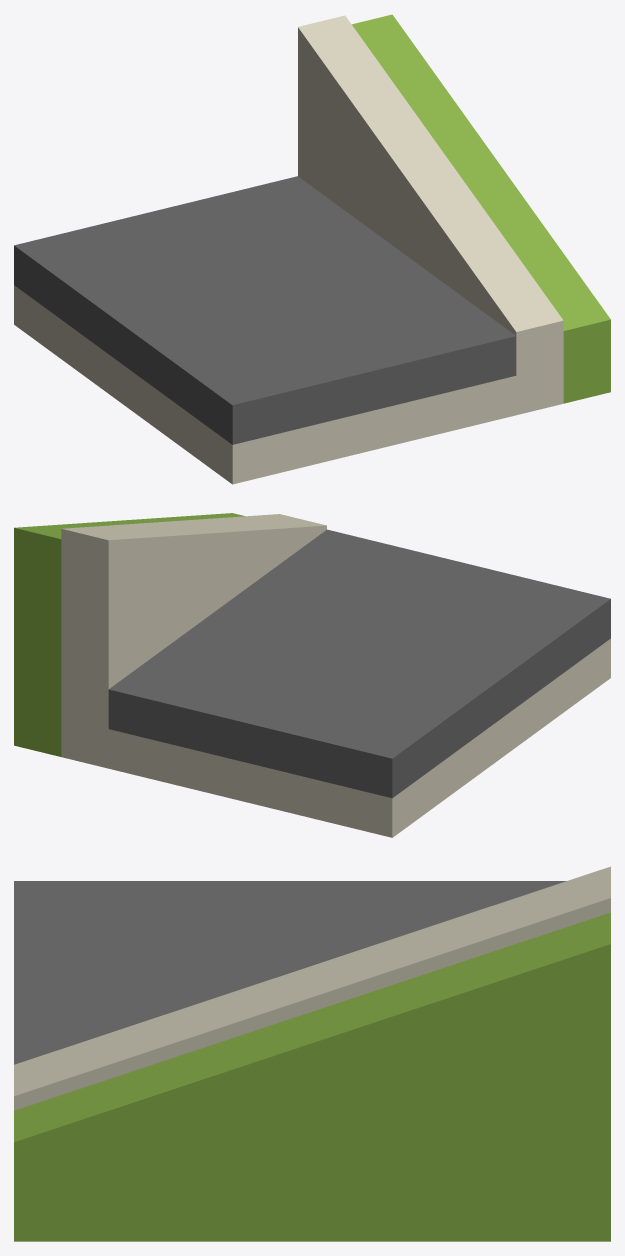
Rendered from tile282.fbx.
The picture shows the model from 3 angles, top to bottom: view 1: azimuth 30°, elevation 25°; view 2: azimuth 150°, elevation 25°; view 3: azimuth 270°, elevation 25°; orthographic projection. The views are drawn at different scales.
Parts seen in each view (by area): view 1: tile282; view 2: tile282; view 3: tile282.
Part boxes in pixels (x1,y1,x2,y2): tile282: (14, 14, 610, 484); tile282: (14, 513, 610, 837); tile282: (14, 866, 610, 1241).
Bounding box in the file's own units: 10 × 5.77 × 10.
